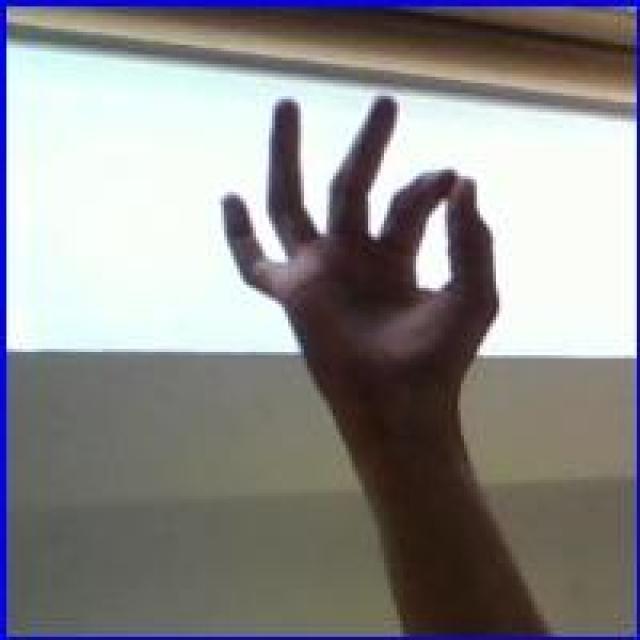F: (219, 88, 504, 421)
